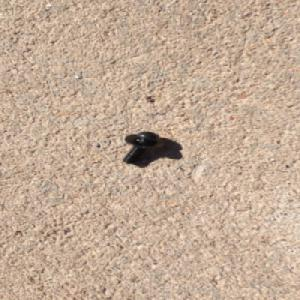BoltWasher: (118, 130, 166, 165)
